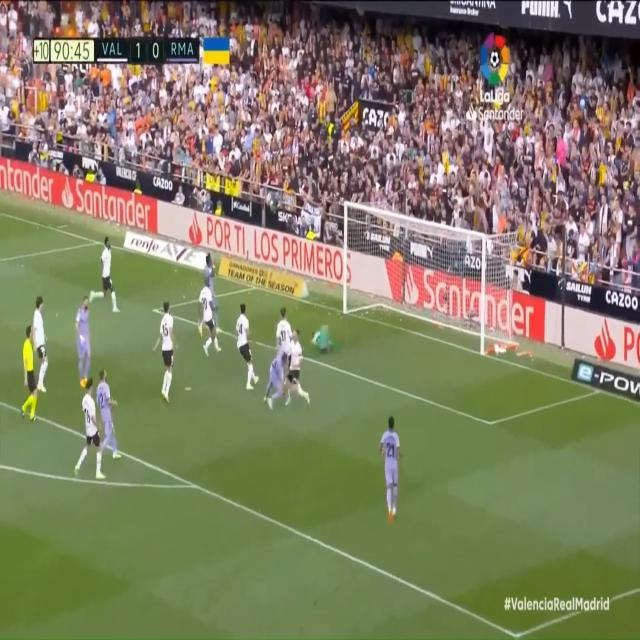goalkeeper: (307, 317, 335, 358)
player: (76, 377, 104, 482), (95, 368, 120, 467), (235, 303, 260, 397), (92, 236, 121, 316), (382, 411, 401, 522), (262, 342, 290, 416), (157, 297, 176, 404), (276, 303, 299, 387), (199, 273, 222, 355), (286, 328, 307, 407), (35, 291, 50, 397), (77, 294, 93, 391), (202, 254, 217, 326)
referee: (18, 322, 41, 421)
